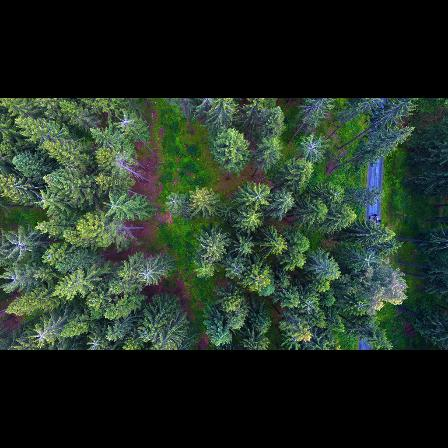Sick: (0, 225, 40, 262), (130, 258, 161, 289), (110, 106, 138, 134), (298, 133, 325, 160), (28, 322, 55, 347), (355, 250, 380, 271), (163, 190, 184, 211)
